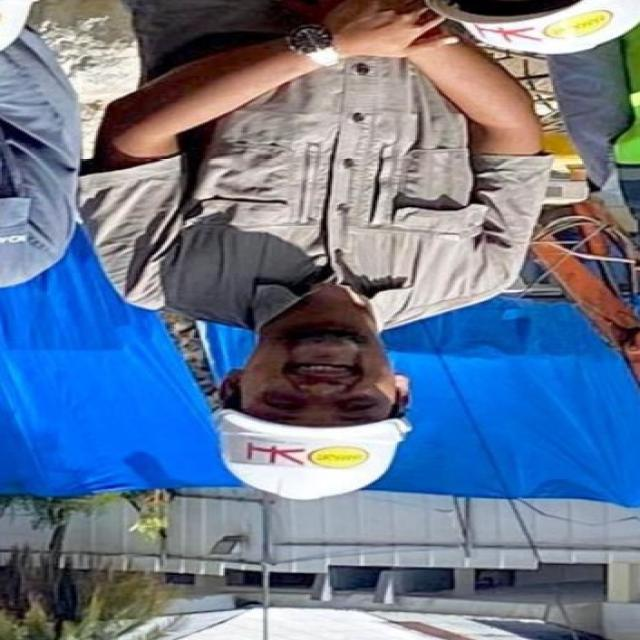safetyhelmet: (209, 355, 417, 503)
